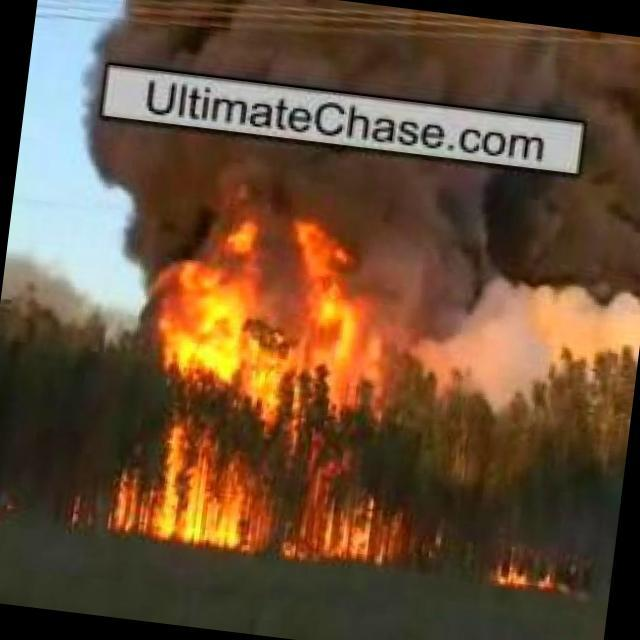Fire: (117, 203, 463, 572), (487, 540, 584, 599)
